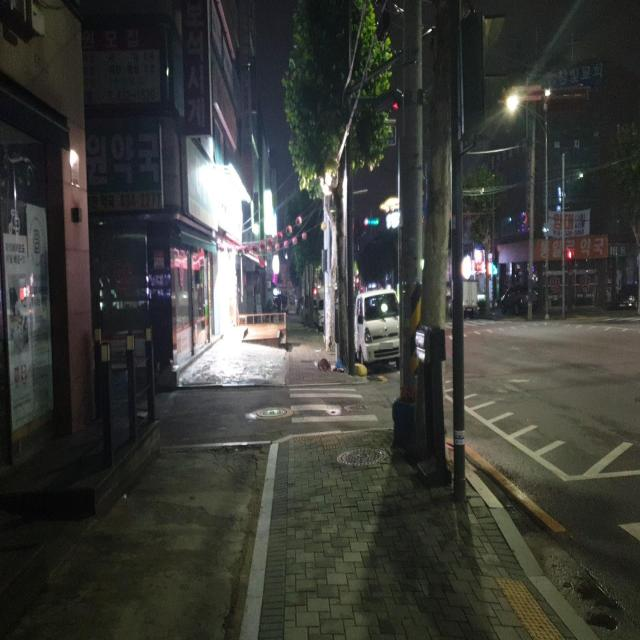횡단보도: (289, 388, 379, 423)
